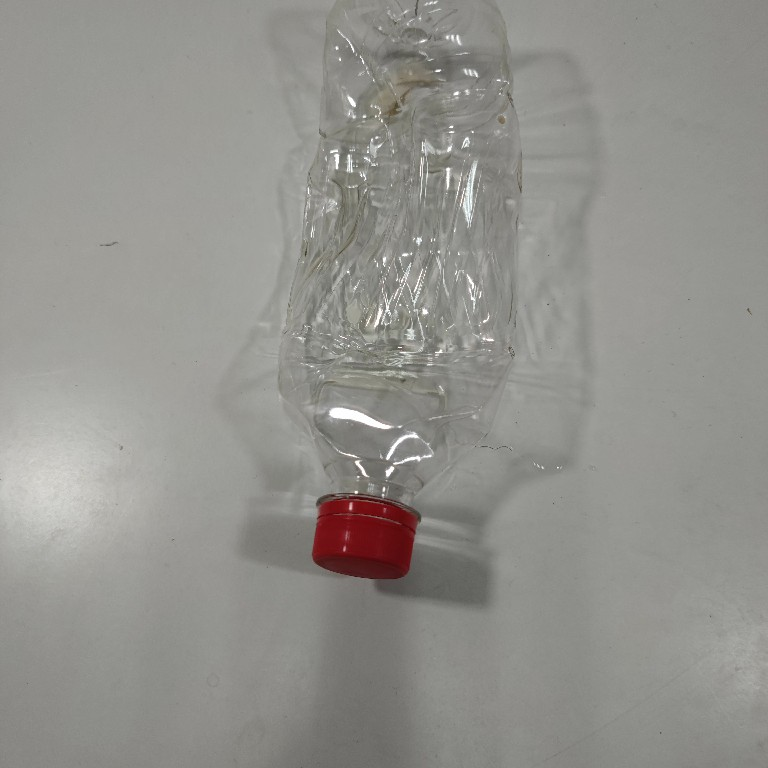bottle: (262, 1, 558, 588)
